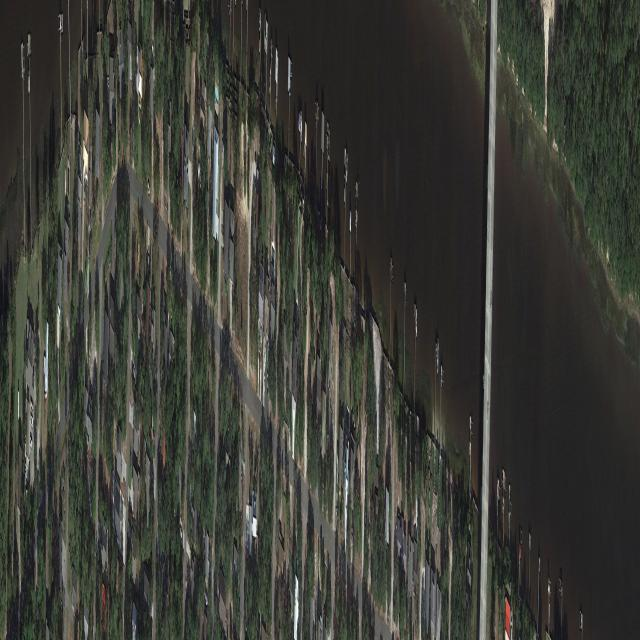ship: (346, 151, 348, 185), (267, 332, 269, 365), (142, 287, 144, 317), (222, 142, 224, 172), (185, 577, 187, 601), (205, 591, 208, 607), (148, 179, 150, 200), (416, 306, 417, 340), (301, 111, 302, 144)
small-vehicle: (286, 591, 288, 615), (487, 403, 489, 426), (30, 414, 33, 429), (15, 490, 17, 509), (18, 390, 19, 421), (243, 457, 245, 472), (148, 248, 149, 274), (254, 176, 256, 189), (180, 527, 182, 540), (261, 343, 262, 369), (25, 434, 26, 459), (25, 463, 26, 487), (30, 437, 32, 449), (351, 526, 352, 550), (84, 185, 85, 208), (88, 206, 89, 229), (365, 509, 366, 532), (222, 130, 223, 153), (267, 372, 268, 395), (26, 488, 28, 499), (133, 367, 135, 378), (89, 206, 90, 227), (35, 360, 36, 380), (200, 169, 201, 189), (264, 375, 265, 394), (288, 584, 289, 602), (491, 292, 492, 309), (147, 261, 148, 278), (181, 514, 182, 531), (255, 151, 256, 164)
